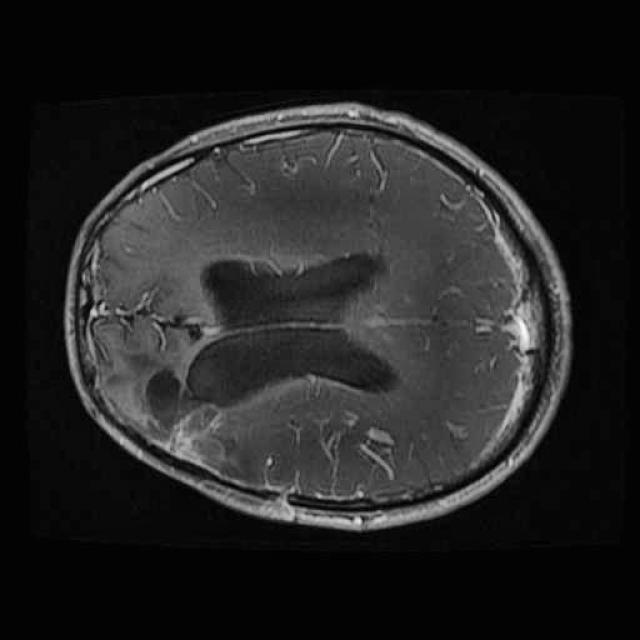Tumor: (129, 357, 267, 507)
